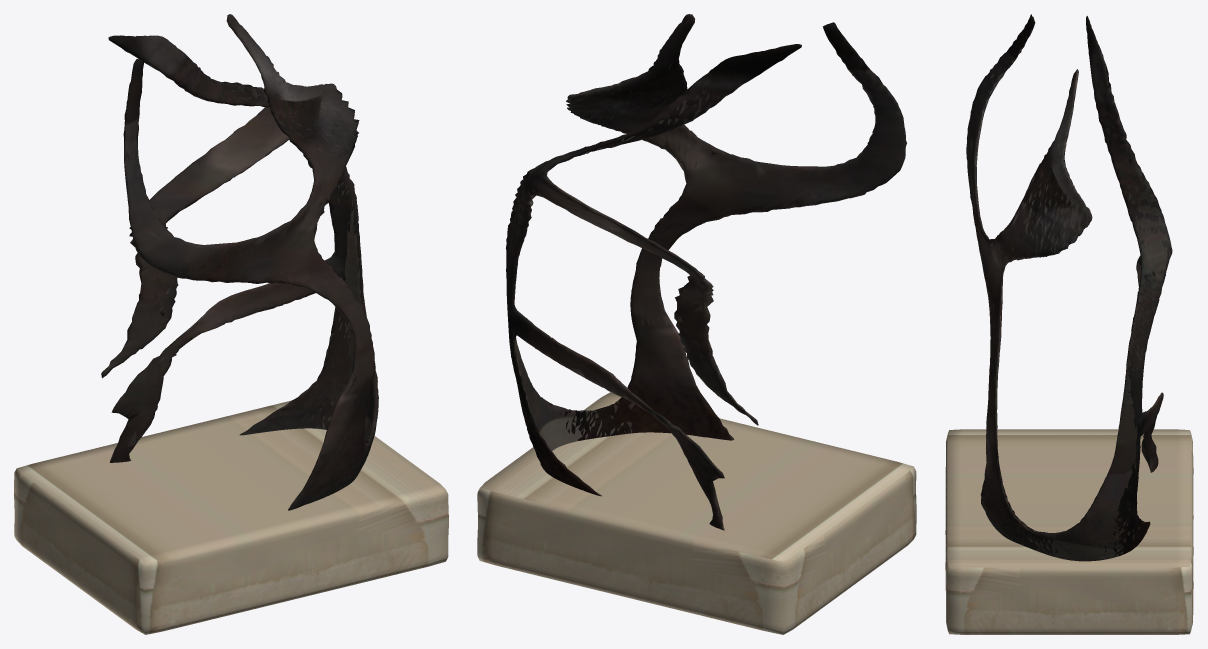
File: hy3d-esc-031.glb
3 renders of one model, left to right at view 1: azimuth 30°, elevation 25°; view 2: azimuth 150°, elevation 25°; view 3: azimuth 270°, elevation 25°, orthographic. The views are drawn at different scales.
Visible parts, largest first — view 1: world; view 2: world; view 3: world.
Part boxes in pixels (x1,y1,x2,y2): world: (14, 14, 448, 634); world: (477, 14, 916, 634); world: (945, 14, 1193, 634).
Size of the model in its own units: 0.762 by 1.25 by 0.5629.
Materials: 1 (1 with a texture image).
